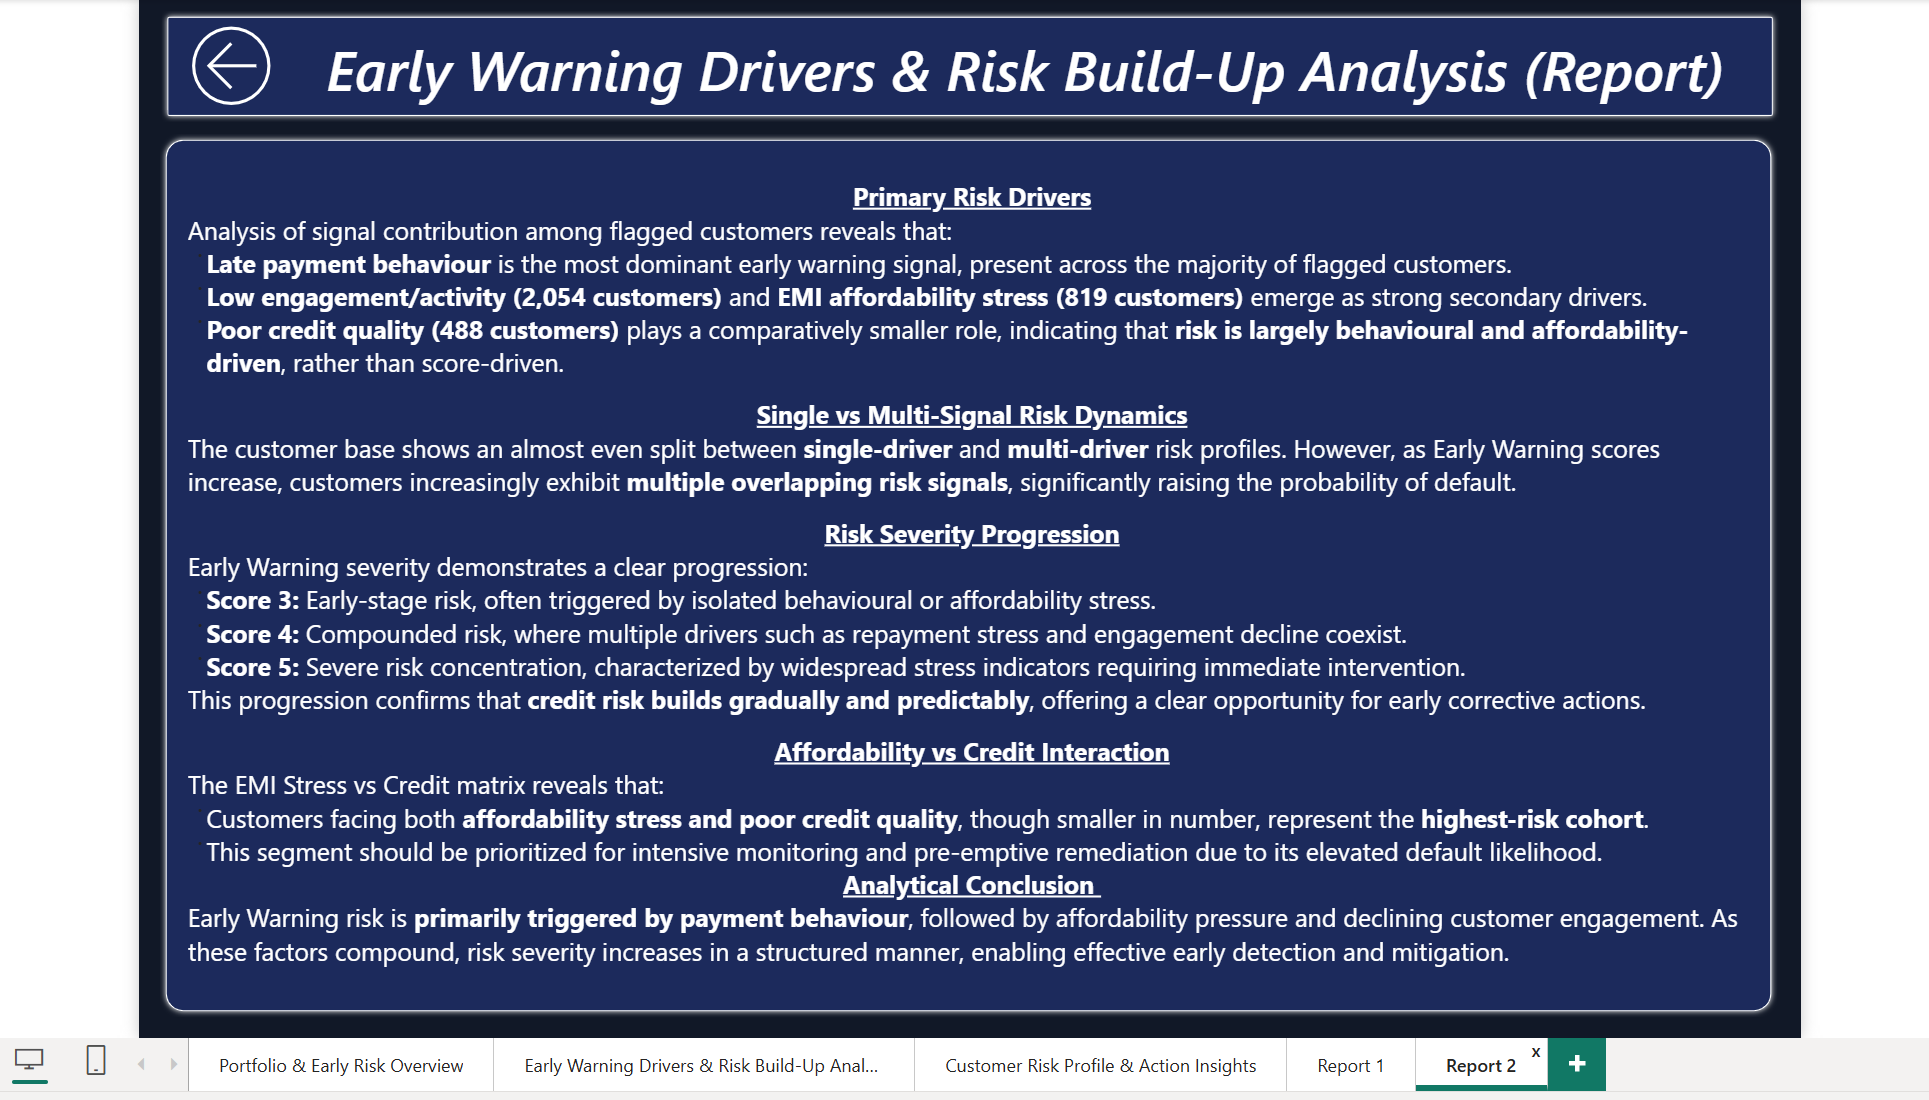

This screenshot's page, from the dashboard's own definition file:
{"tool":"powerbi","page":{"name":"Report 2","canvas":[1600,1000],"ordinal":4},"visuals":[{"type":"shape","box":[20.7,130.5,1556.5,849.9],"z":0},{"type":"shape","box":[22.3,11.1,1556.5,106.6],"z":1000},{"type":"textbox","box":[146.4,25.5,1414.9,184.6],"z":2000},{"type":"textbox","box":[41.4,149.6,1519.9,819.6],"z":3000},{"type":"actionButton","box":[41.4,17.5,157.6,93.9],"z":4000}]}

Visuals, with their boxes on the page's 1600x1000 design canvas (x1, y1, x2, y2). These are canvas units, not pixel positions in the 1929x1100 screenshot, which may show the page scaled, cropped or inside an application window:
shape: crop(21, 130, 1577, 980)
shape: crop(22, 11, 1579, 118)
textbox: crop(146, 26, 1561, 210)
textbox: crop(41, 150, 1561, 969)
actionButton: crop(41, 18, 199, 111)
